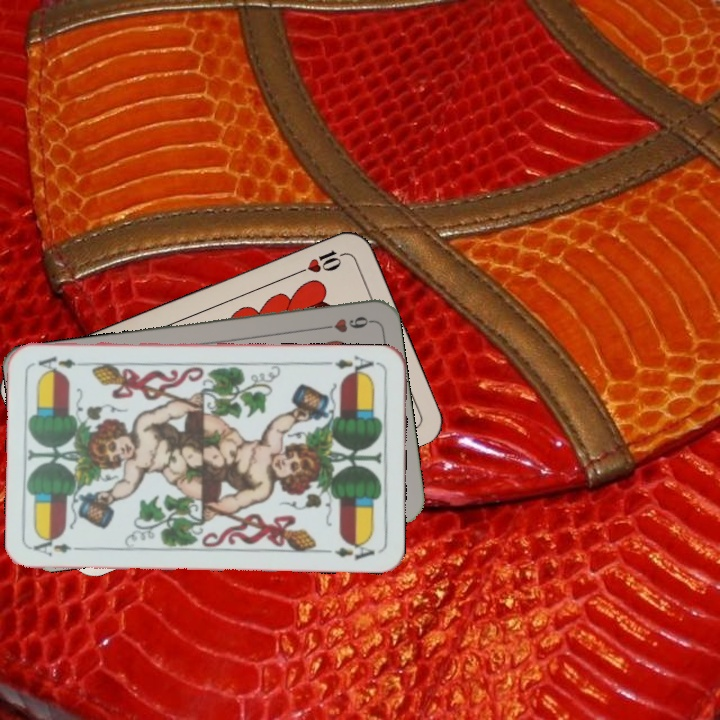EA: (322, 351, 381, 379), (29, 533, 88, 560)
H10: (291, 246, 348, 278)
H9: (315, 312, 374, 336)
